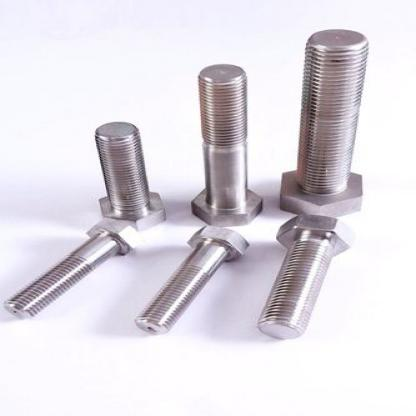FOD: (278, 27, 372, 220), (2, 219, 140, 320), (132, 223, 248, 337), (256, 211, 359, 339), (188, 62, 267, 228), (91, 120, 169, 228)
